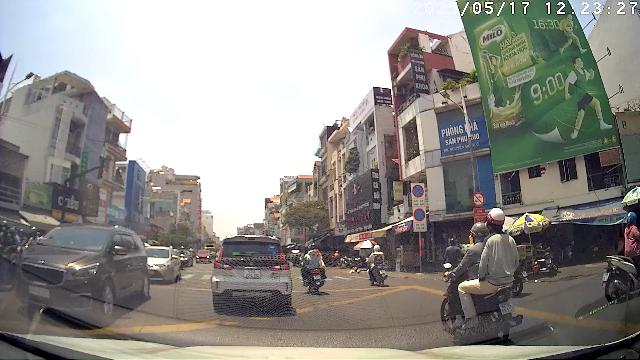130-cam-dung-va-do-xe: (412, 184, 424, 197)
131a-cam-do-xe: (414, 208, 426, 221)
